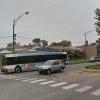Bus: (4, 45, 68, 71)
